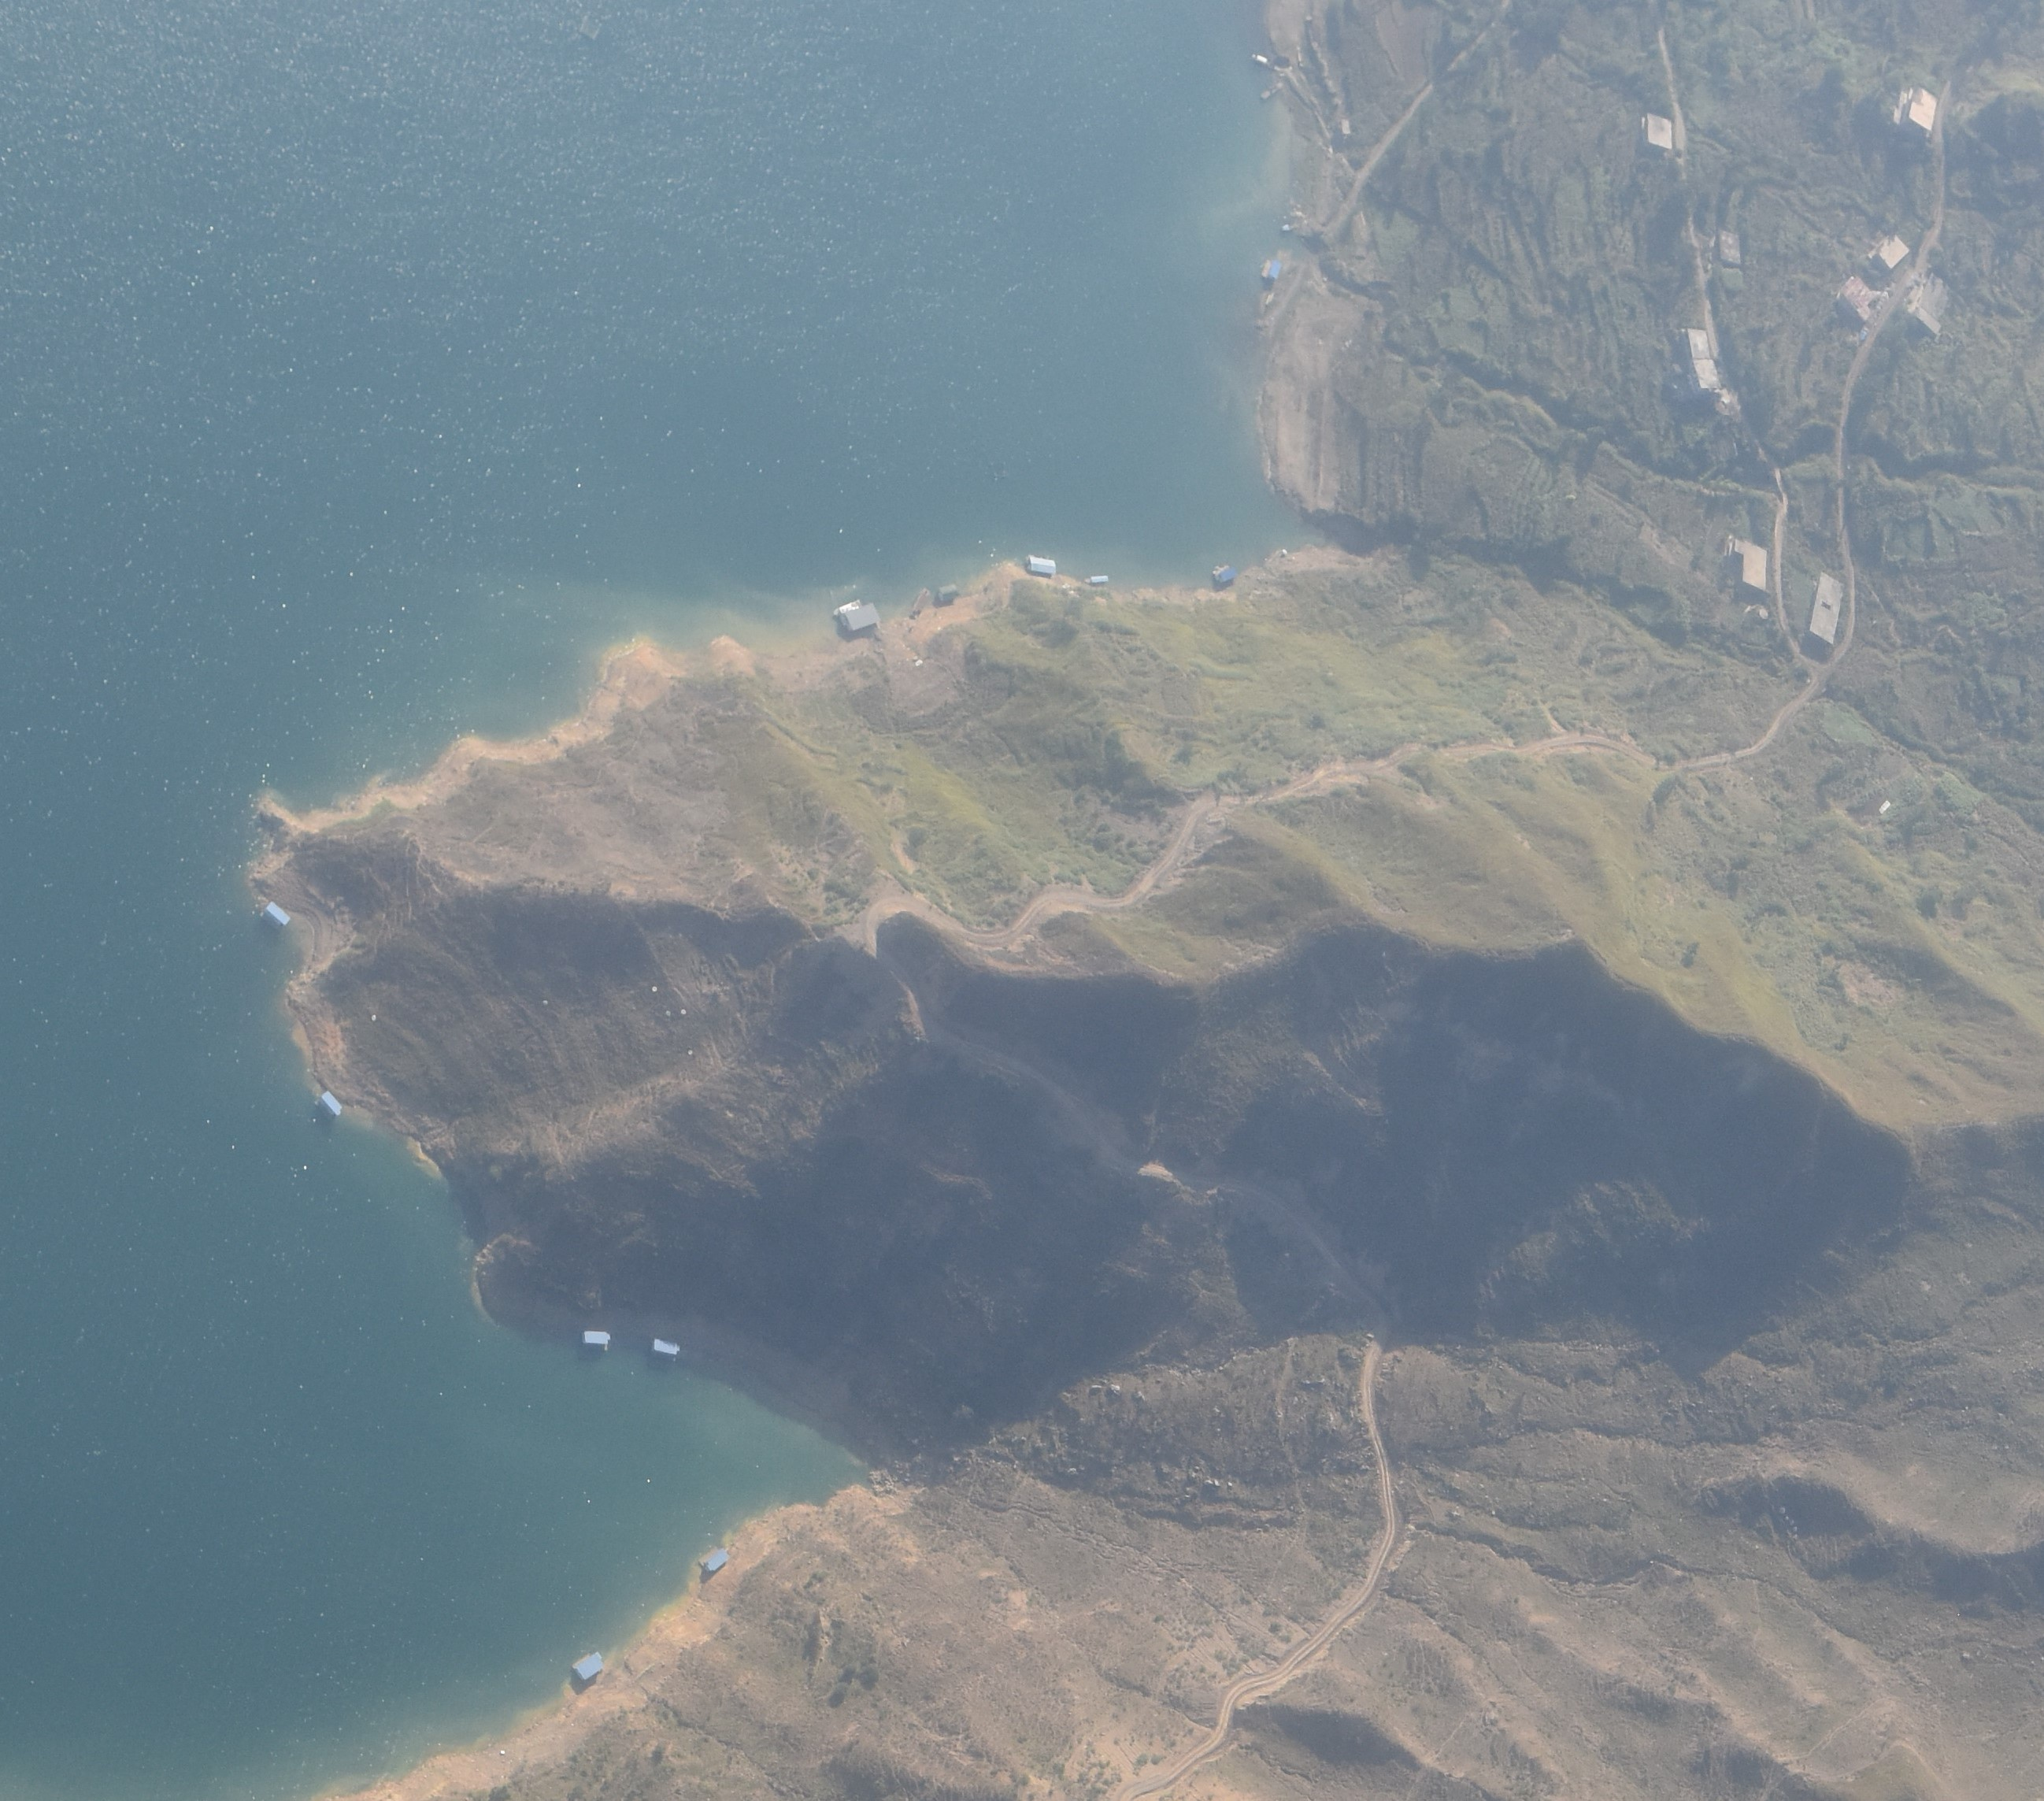building: (1809, 572, 1845, 646), (1913, 272, 1949, 338), (1686, 328, 1723, 390), (1893, 84, 1938, 132), (1732, 535, 1767, 591), (1838, 272, 1874, 324), (1873, 233, 1912, 271), (1646, 112, 1674, 149), (1718, 229, 1742, 267), (1340, 117, 1351, 135)
prefabricated-house: (836, 598, 879, 632), (572, 1652, 604, 1681), (261, 901, 290, 927), (318, 1089, 342, 1118), (1025, 554, 1057, 573), (705, 1547, 731, 1572), (1214, 563, 1238, 583), (581, 1330, 609, 1345), (654, 1340, 679, 1354), (938, 584, 957, 602), (1260, 260, 1279, 277)
ship: (1252, 52, 1281, 76), (911, 586, 931, 617), (1261, 80, 1284, 102), (1085, 576, 1109, 583)
